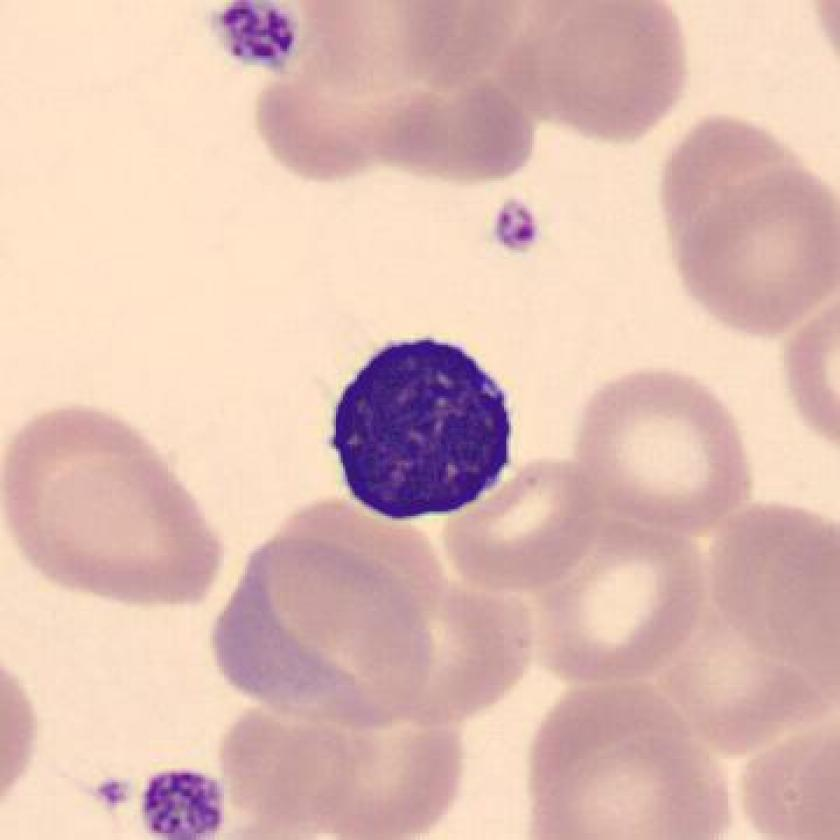lymphocyte: (318, 323, 533, 531)
